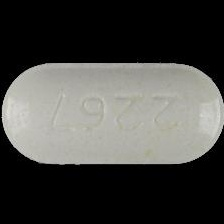16590-647: (0, 0, 224, 224)
